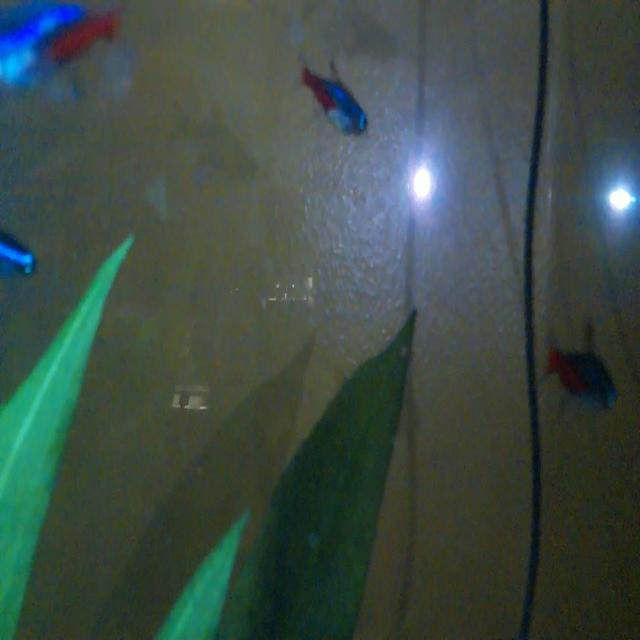fish: (290, 45, 375, 153)
